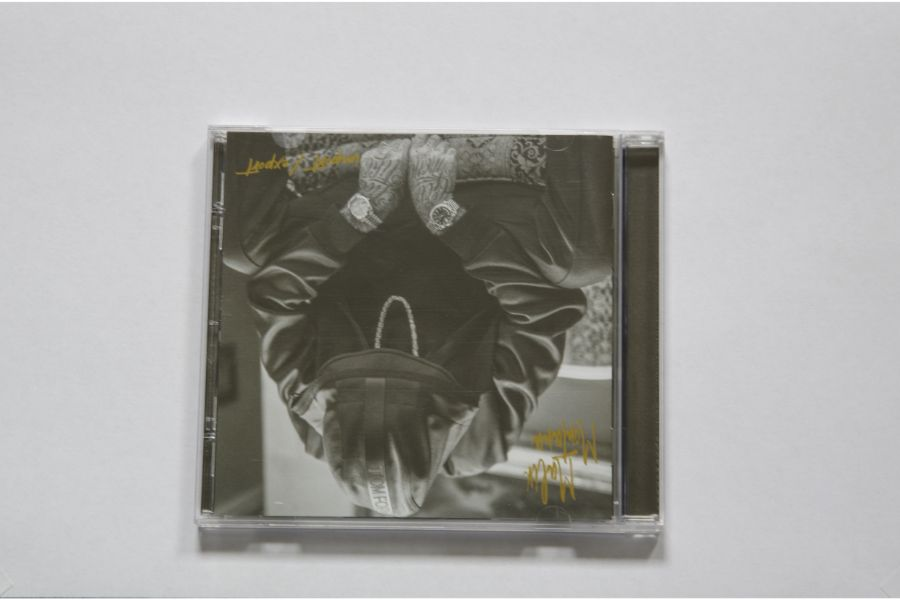album: (194, 120, 665, 543)
